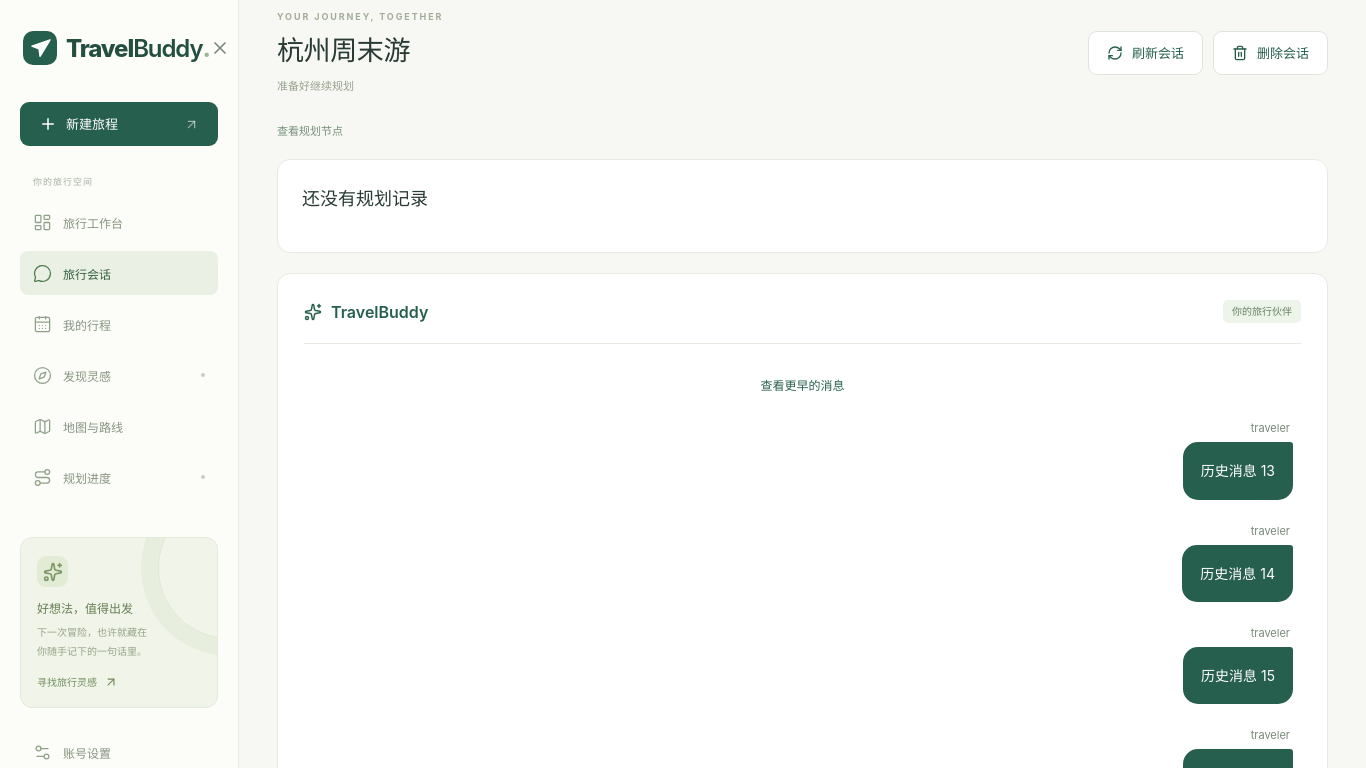
Test: 旅行会话 › 打开长会话展示最近消息，并可以加载更早的消息
The width and height of the screenshot is (1366, 768).
(page scrolled)
Expected: the text "历史消息 0" is not shown
What coordinates should you click on to do the following:
click the button "查看更早的消息"
I would click on:
 (802, 385)
Its box is [752, 368, 852, 401].
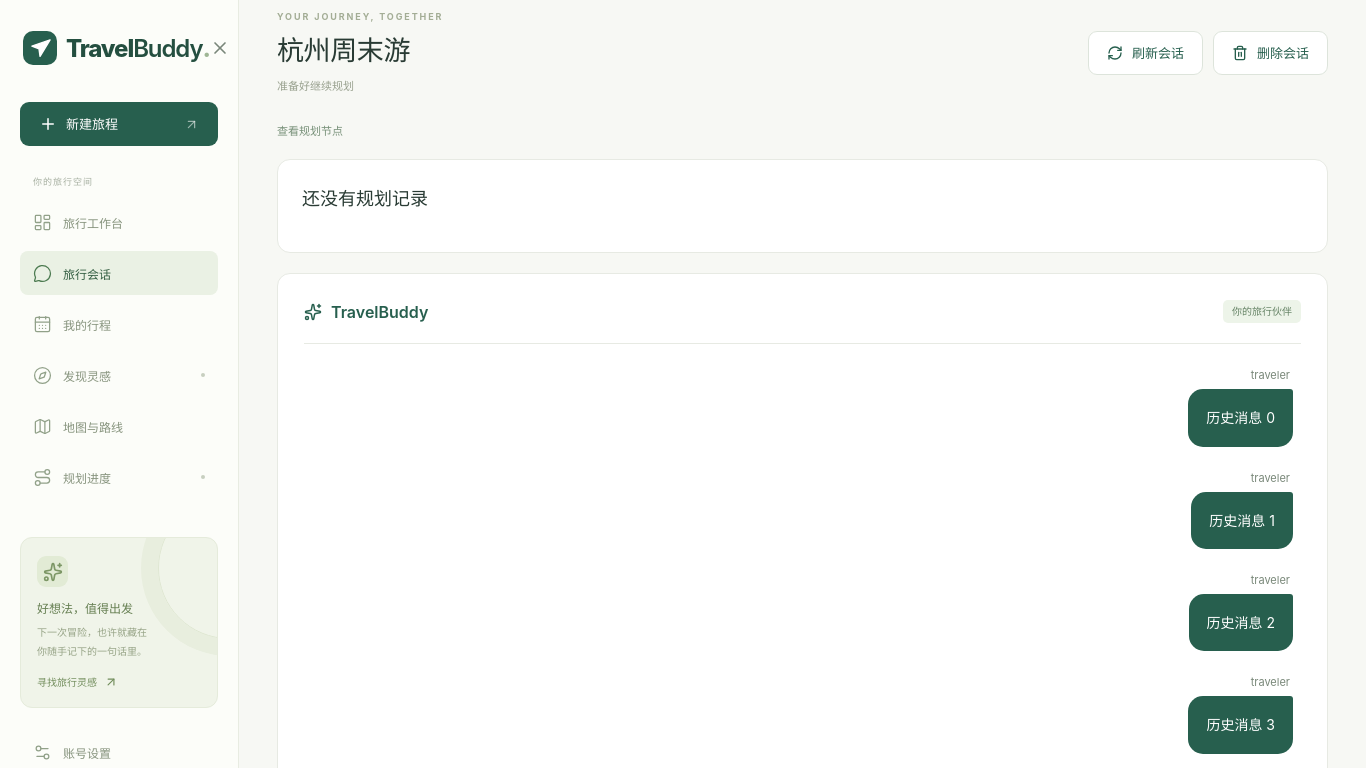
Expected: the text "历史消息 0" is shown, [1188, 389, 1293, 447]
